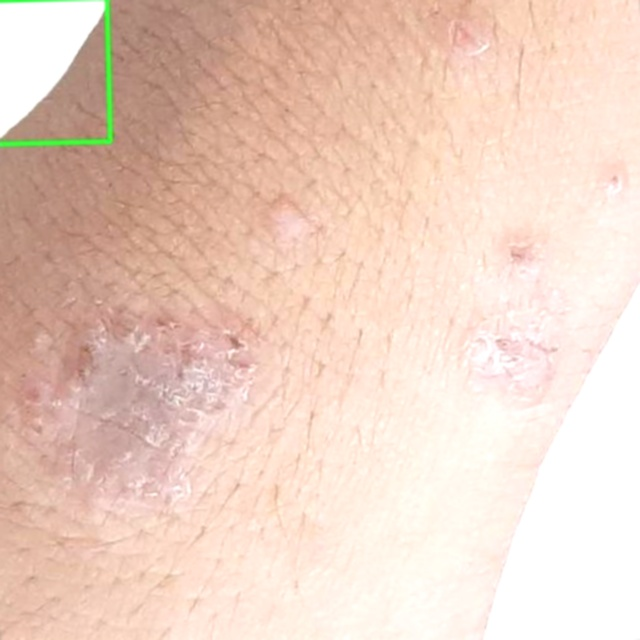Contact Dermatitis: (0, 0, 110, 144)
